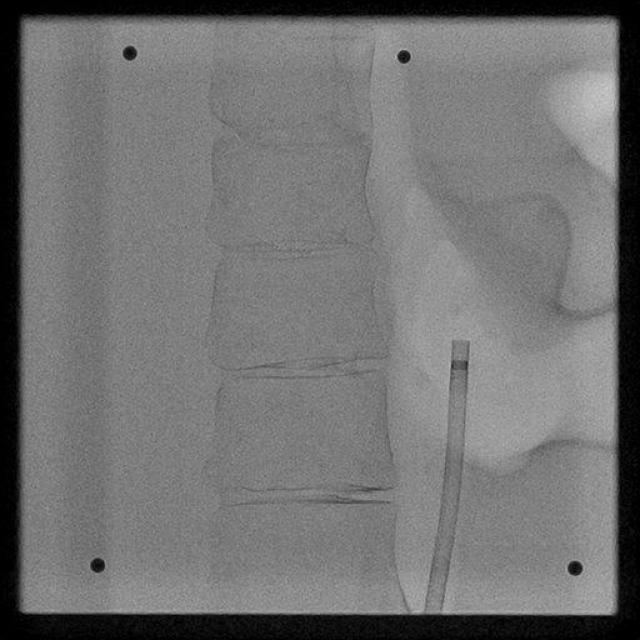bend: (434, 527, 456, 546)
entry: (424, 608, 441, 614)
marker: (450, 360, 469, 370)
tip: (452, 339, 471, 345)
